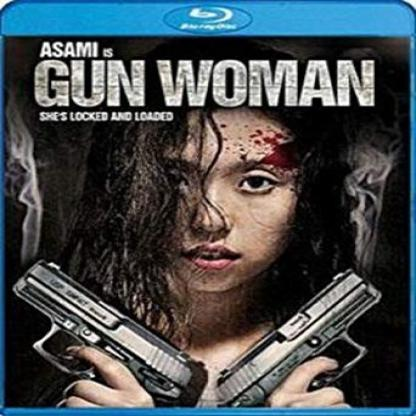Pistol: (0, 253, 206, 408), (213, 267, 396, 412)
